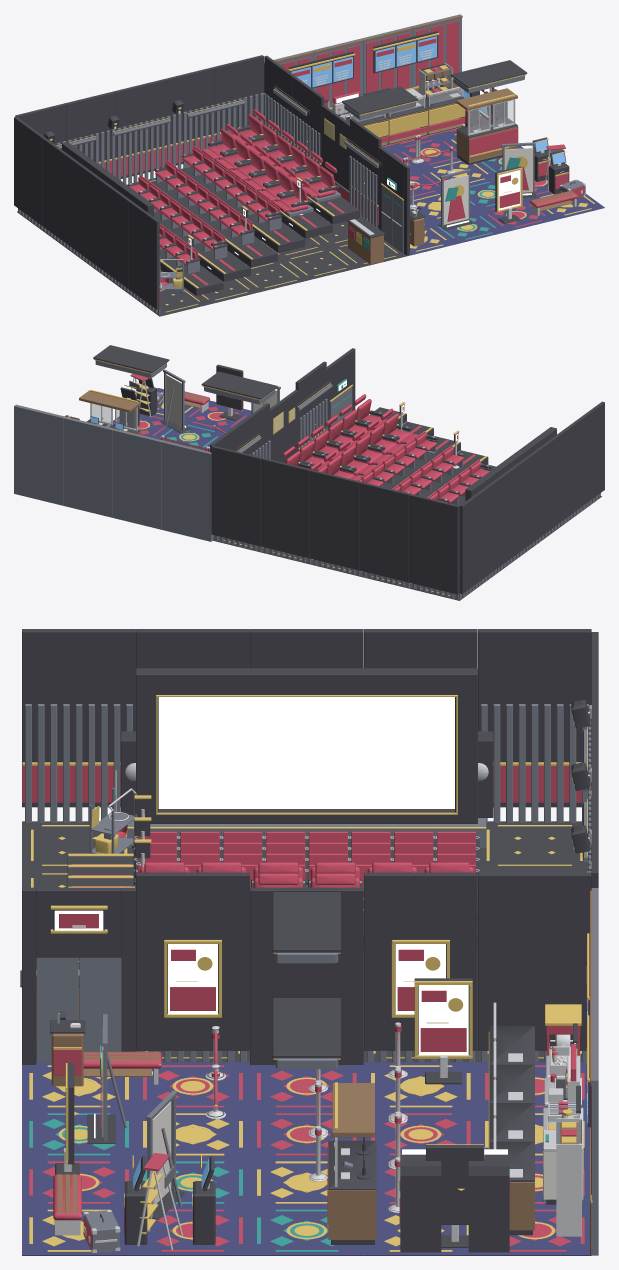
The model's file is cinema-multiplex.glb.
3 renders of one model, top to bottom at view 1: azimuth 30°, elevation 25°; view 2: azimuth 150°, elevation 25°; view 3: azimuth 270°, elevation 25°, orthographic. The views are drawn at different scales.
Parts seen in each view (by area): view 1: 114-acoustic-wall-panel-module/0, 113-acoustic-wall-panel-module/0, 111-acoustic-wall-panel-module/0, 112-acoustic-wall-panel-module/0, 110-acoustic-wall-panel-module/0, 117-acoustic-wall-panel-module/0, 119-acoustic-wall-panel-module/0, 118-acoustic-wall-panel-module/0, 116-acoustic-wall-panel-module/0, 117-acoustic-wall-panel-module/1, 013-premium-recliner-row/3, 012-premium-recliner-row/3 (+75 smaller); view 2: 115-acoustic-wall-panel-module/0, 117-acoustic-wall-panel-module/0, 118-acoustic-wall-panel-module/0, 119-acoustic-wall-panel-module/0, 116-acoustic-wall-panel-module/0, 125-foyer-wall-panel-module/0, 128-foyer-wall-panel-module/0, 126-foyer-wall-panel-module/0, 127-foyer-wall-panel-module/0, 110-acoustic-wall-panel-module/0, 112-acoustic-wall-panel-module/0, 111-acoustic-wall-panel-module/0 (+32 smaller); view 3: 018-cinema-screen-and-masking/2, 018-cinema-screen-and-masking/1, 120-acoustic-wall-panel-module/0, 123-acoustic-wall-panel-module/0, 121-acoustic-wall-panel-module/0, 114-acoustic-wall-panel-module/0, 110-acoustic-wall-panel-module/0, 122-projection-port-panel/0, 124-exit-door-module/0, 114-acoustic-wall-panel-module/1, 110-acoustic-wall-panel-module/1, 038-box-office-counter/0 (+87 smaller).
Part boxes in pixels (box(x1,y1,x2,y2)): 114-acoustic-wall-panel-module/0: box(128, 200, 159, 309); 113-acoustic-wall-panel-module/0: box(99, 179, 130, 288); 111-acoustic-wall-panel-module/0: box(42, 137, 73, 246); 112-acoustic-wall-panel-module/0: box(71, 158, 101, 267); 110-acoustic-wall-panel-module/0: box(14, 116, 44, 225); 117-acoustic-wall-panel-module/0: box(114, 79, 165, 178); 119-acoustic-wall-panel-module/0: box(213, 55, 263, 133); 118-acoustic-wall-panel-module/0: box(164, 67, 214, 166); 116-acoustic-wall-panel-module/0: box(65, 91, 115, 161); 117-acoustic-wall-panel-module/1: box(117, 117, 164, 183); 013-premium-recliner-row/3: box(244, 155, 310, 212); 012-premium-recliner-row/3: box(201, 123, 267, 180); 115-acoustic-wall-panel-module/0: box(408, 494, 459, 594); 117-acoustic-wall-panel-module/0: box(310, 470, 360, 570); 118-acoustic-wall-panel-module/0: box(260, 457, 311, 558); 119-acoustic-wall-panel-module/0: box(211, 445, 261, 546); 116-acoustic-wall-panel-module/0: box(359, 481, 409, 582); 125-foyer-wall-panel-module/0: box(162, 441, 212, 541); 128-foyer-wall-panel-module/0: box(14, 405, 64, 505); 126-foyer-wall-panel-module/0: box(112, 429, 163, 529); 127-foyer-wall-panel-module/0: box(63, 417, 113, 517); 110-acoustic-wall-panel-module/0: box(459, 485, 490, 593); 112-acoustic-wall-panel-module/0: box(517, 443, 547, 551); 111-acoustic-wall-panel-module/0: box(488, 464, 519, 572); 018-cinema-screen-and-masking/2: box(158, 697, 454, 808); 018-cinema-screen-and-masking/1: box(120, 668, 493, 823); 120-acoustic-wall-panel-module/0: box(478, 872, 591, 1050); 123-acoustic-wall-panel-module/0: box(136, 872, 249, 1050); 121-acoustic-wall-panel-module/0: box(364, 872, 477, 1050); 114-acoustic-wall-panel-module/0: box(22, 629, 135, 807); 110-acoustic-wall-panel-module/0: box(478, 629, 591, 807); 122-projection-port-panel/0: box(250, 887, 363, 1064); 124-exit-door-module/0: box(22, 887, 135, 1064); 114-acoustic-wall-panel-module/1: box(25, 704, 132, 822); 110-acoustic-wall-panel-module/1: box(481, 704, 588, 822); 038-box-office-counter/0: box(328, 1083, 376, 1239).
Bounding box in the file's own units: 18.12 × 3.69 × 10.15.
